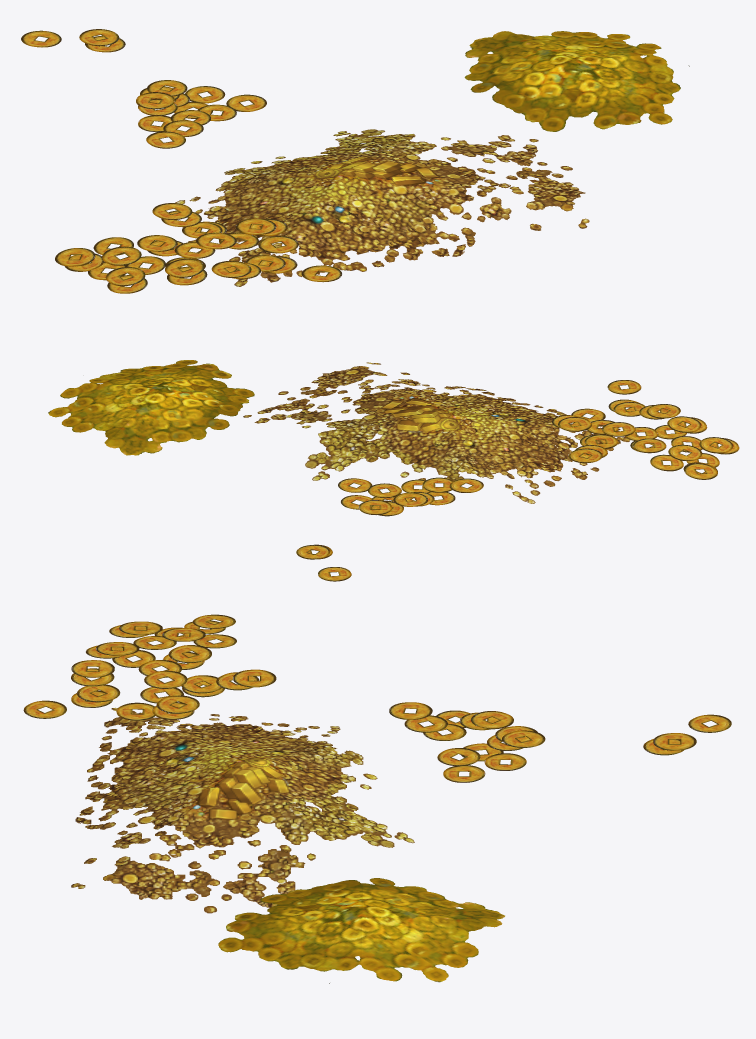
File: tqfb_jinbi01.FBX
3 views of the same model, one above another, from view 1: azimuth 30°, elevation 25°; view 2: azimuth 150°, elevation 25°; view 3: azimuth 270°, elevation 25° (orthographic). The views are drawn at different scales.
Visible parts, largest first — view 1: yq08, csfb_qiandui, tqfb_jinbi01, tqfb_jinbi02, tqfb_jinbi03; view 2: yq08, csfb_qiandui, tqfb_jinbi01, tqfb_jinbi02, tqfb_jinbi03; view 3: yq08, csfb_qiandui, tqfb_jinbi01, tqfb_jinbi02, tqfb_jinbi03.
Boxes of the visible parts, box(x1,y1,x2,y2) form: yq08: box(175, 129, 589, 286); csfb_qiandui: box(464, 31, 689, 131); tqfb_jinbi01: box(55, 203, 341, 293); tqfb_jinbi02: box(136, 80, 266, 148); tqfb_jinbi03: box(21, 29, 125, 52); yq08: box(243, 362, 639, 503); csfb_qiandui: box(48, 360, 254, 455); tqfb_jinbi01: box(552, 380, 739, 479); tqfb_jinbi02: box(338, 477, 483, 516); tqfb_jinbi03: box(296, 544, 351, 581); yq08: box(71, 707, 414, 913); csfb_qiandui: box(218, 878, 504, 983); tqfb_jinbi01: box(23, 614, 276, 720); tqfb_jinbi02: box(389, 702, 545, 782); tqfb_jinbi03: box(643, 714, 731, 755).
Bounding box in the file's own units: 13.65 × 0.7168 × 10.54.
